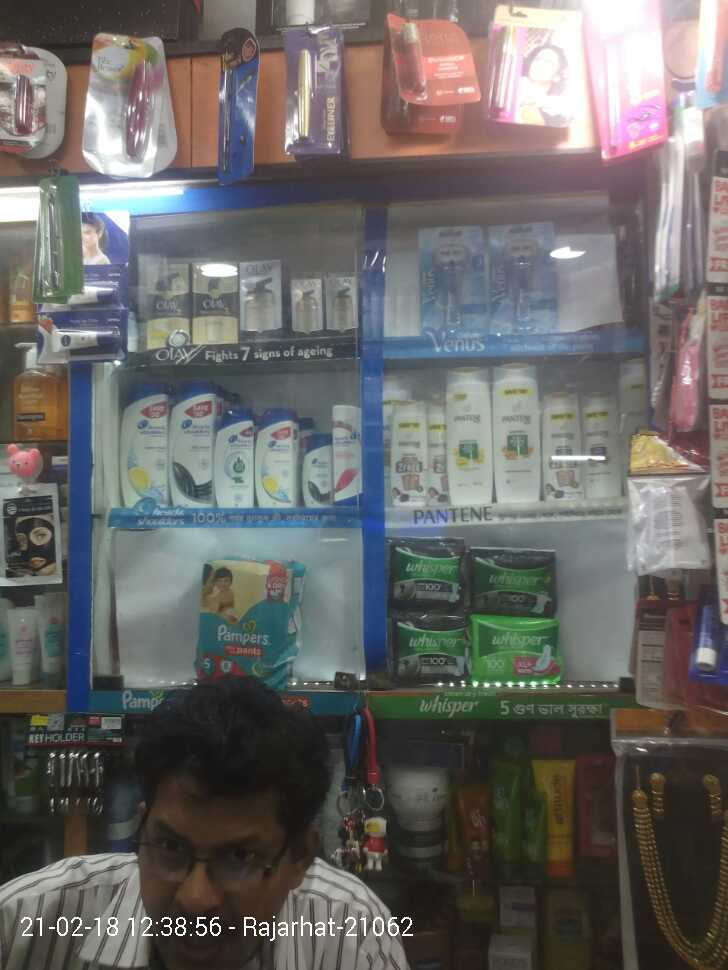venus: (488, 221, 558, 330), (419, 222, 483, 332)
